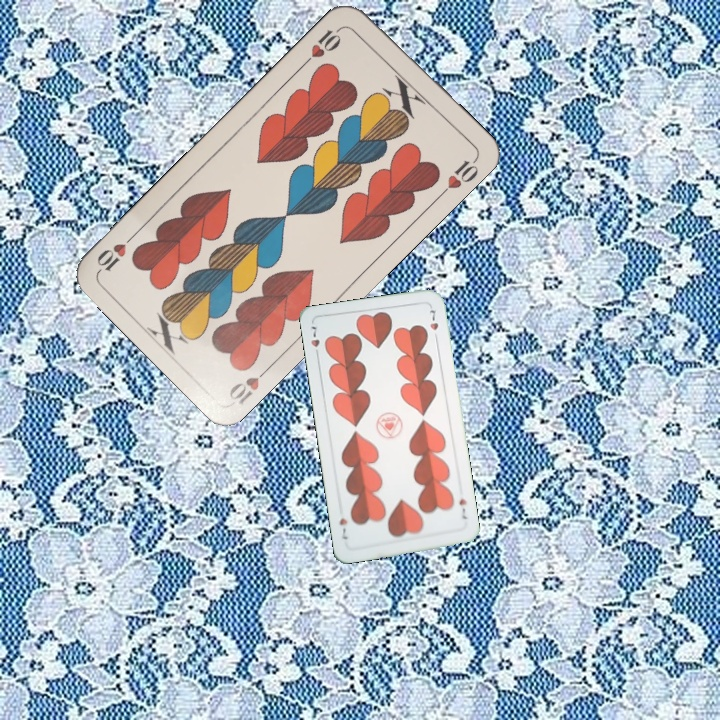H10: (225, 361, 274, 408), (300, 21, 347, 68)
H7: (307, 322, 322, 361), (455, 494, 469, 522)
